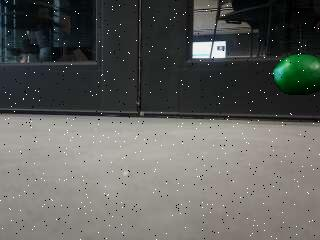Lime: (271, 54, 320, 96)
